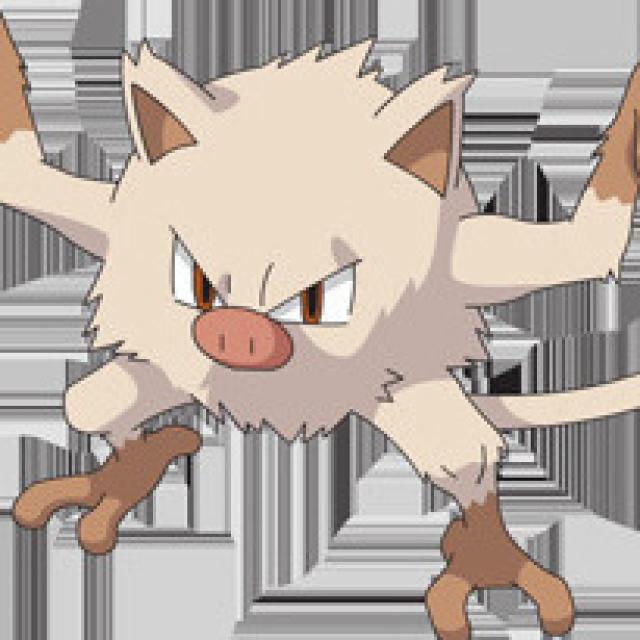Mankey: (64, 61, 538, 521)
